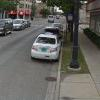Car: (27, 25, 61, 72)
